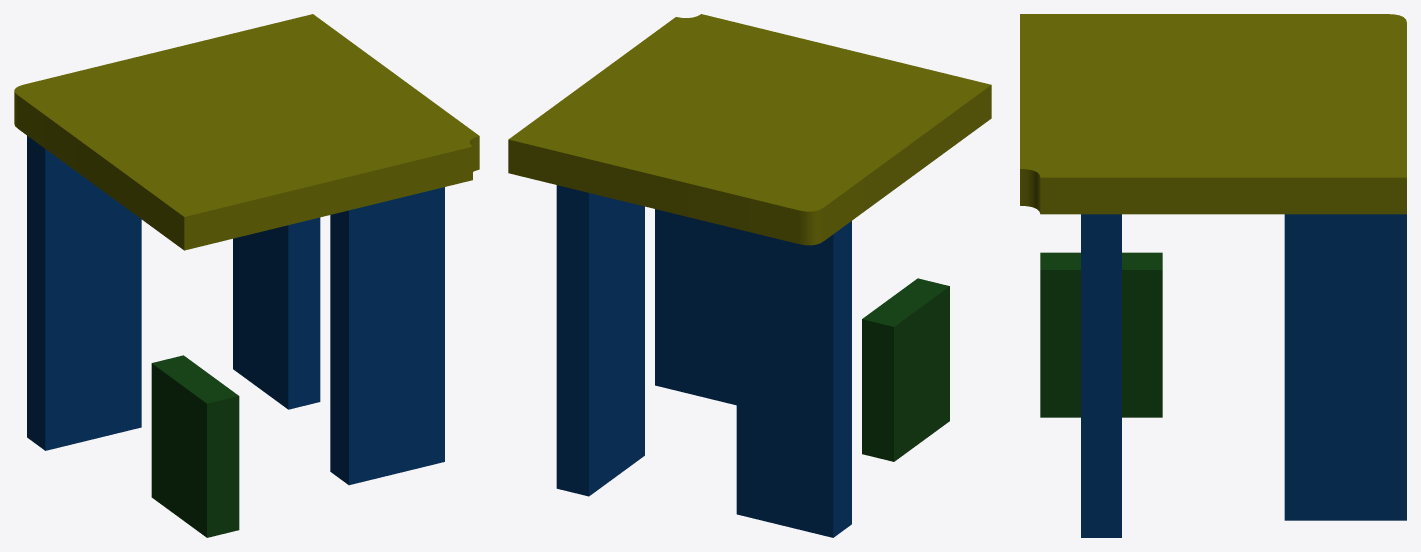
Rendered from Pillar_03_L_L.fbx.
3 views of the same model, side by side, from view 1: azimuth 30°, elevation 25°; view 2: azimuth 150°, elevation 25°; view 3: azimuth 270°, elevation 25° (orthographic). The views are drawn at different scales.
Visible parts, largest first — view 1: 1, 4, 3, 2; view 2: 4, 2, 3, 1; view 3: 2, 1, 3, 4.
Boxes of the visible parts, x1,y1,x2,y2 form: 1: (249, 78, 479, 485); 4: (14, 51, 248, 450); 3: (96, 115, 336, 537); 2: (161, 14, 400, 409); 4: (661, 112, 902, 537); 2: (508, 75, 749, 496); 3: (750, 47, 991, 461); 1: (597, 14, 837, 405); 2: (1213, 95, 1406, 520); 1: (1020, 95, 1213, 537); 3: (1020, 14, 1213, 417); 4: (1213, 14, 1406, 95).
Bounding box in the file's own units: 190 × 200 × 190.
